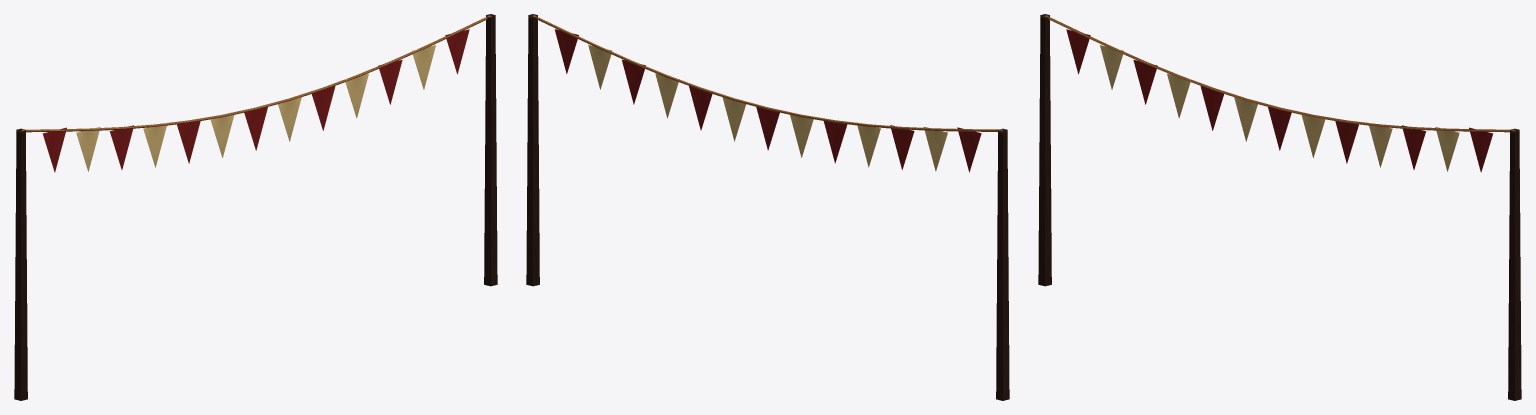
Rendered from Bandeirolas_de_rua_LOD0.fbx.
3 views of the same model, side by side, from view 1: azimuth 30°, elevation 25°; view 2: azimuth 150°, elevation 25°; view 3: azimuth 330°, elevation 25° (orthographic).
Parts seen in each view (by area): view 1: Bandeirolas_de_rua_LOD0; view 2: Bandeirolas_de_rua_LOD0; view 3: Bandeirolas_de_rua_LOD0.
Part boxes in pixels (<box>): Bandeirolas_de_rua_LOD0: <box>14,14,497,400</box>; Bandeirolas_de_rua_LOD0: <box>526,14,1009,400</box>; Bandeirolas_de_rua_LOD0: <box>1038,14,1521,400</box>.
Size of the model in its own units: 720 by 382 by 17.32.
1 material, 1 textured.
